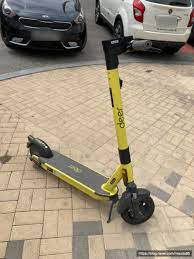kick_board: (28, 35, 153, 223)
kick_handler: (100, 36, 133, 69)
kick_neck: (107, 72, 130, 160)
kick_wheel: (118, 191, 155, 224), (28, 137, 50, 171)
